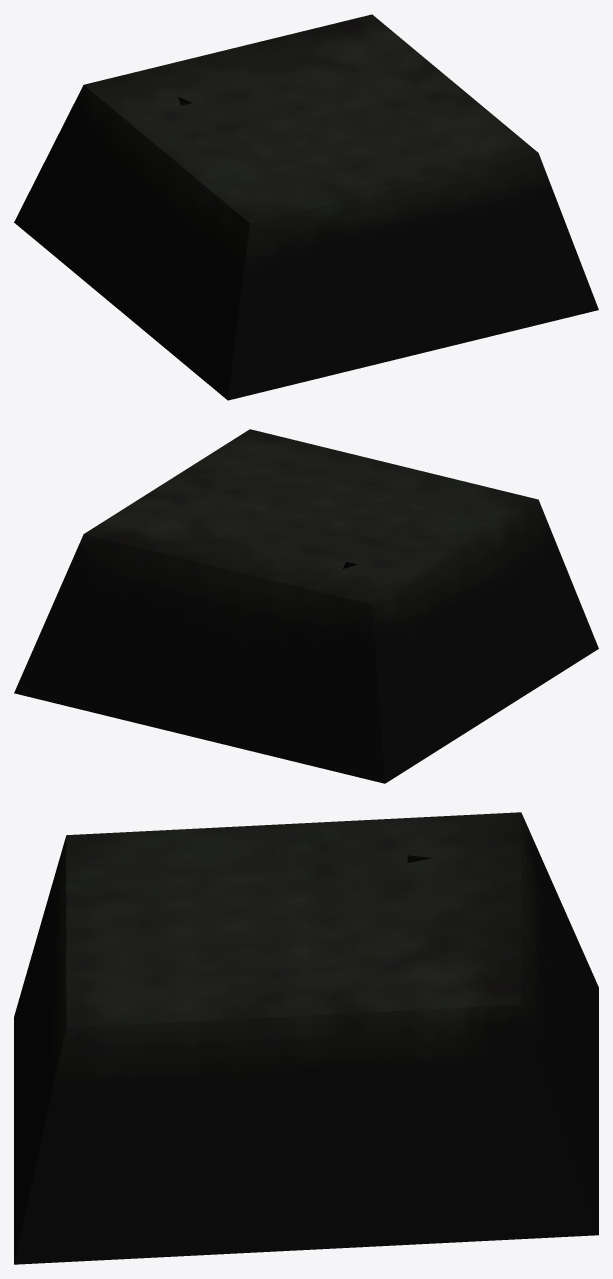
The model's file is link_3__key-9.glb.
The picture shows the model from 3 angles, top to bottom: view 1: azimuth 30°, elevation 25°; view 2: azimuth 150°, elevation 25°; view 3: azimuth 270°, elevation 25°; orthographic projection. The views are drawn at different scales.
Visible parts, largest first — view 1: geometry_0; view 2: geometry_0; view 3: geometry_0.
Boxes of the visible parts, x1,y1,x2,y2 form: geometry_0: (14,14,598,400); geometry_0: (14,429,598,783); geometry_0: (14,812,598,1264).
Size of the model in its own units: 0.0719 by 0.0315 by 0.0718.
1 material, 1 textured.
